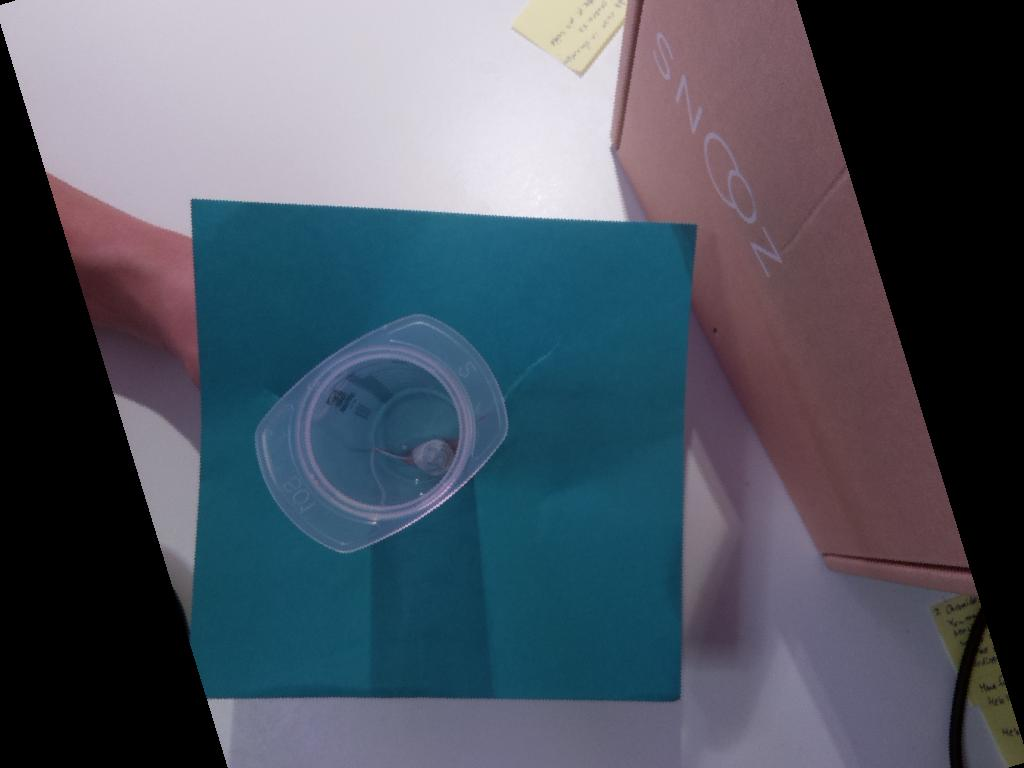clean: (253, 313, 508, 553)
